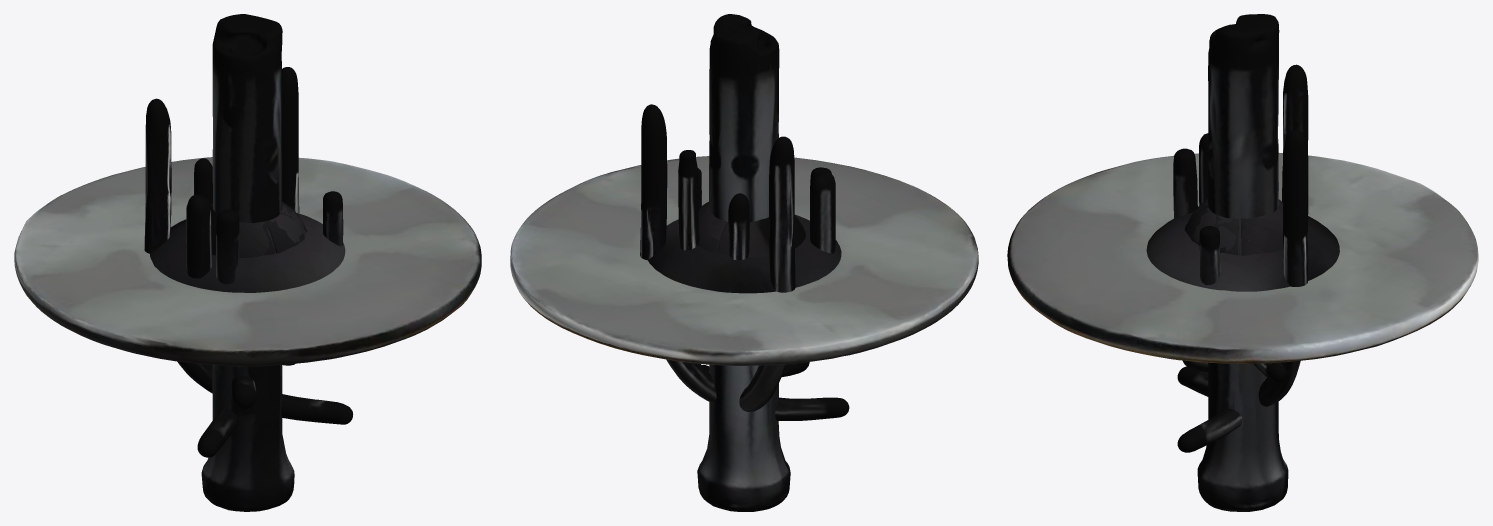
File: NMK.2005.0639_140184.glb
3 views of the same model, side by side, from view 1: azimuth 30°, elevation 25°; view 2: azimuth 150°, elevation 25°; view 3: azimuth 270°, elevation 25° (orthographic).
Parts seen in each view (by area): view 1: root.0, root.1, root.2, root.9, root.10, root.11, root.5, root.15, root.16, root.4, root.17, root.12; view 2: root.0, root.1, root.10, root.2, root.9, root.12, root.11, root.17, root.5, root.4; view 3: root.0, root.1, root.2, root.10, root.9, root.4, root.15, root.16, root.11, root.5.
Boxes of the visible parts, x1=… form: root.0: x1=14, y1=157, x2=481, y2=366; root.1: x1=201, y1=14, x2=294, y2=511; root.2: x1=150, y1=213, x2=345, y2=292; root.9: x1=144, y1=98, x2=353, y2=424; root.10: x1=197, y1=67, x2=299, y2=457; root.11: x1=186, y1=194, x2=211, y2=278; root.5: x1=210, y1=203, x2=306, y2=257; root.15: x1=216, y1=209, x2=239, y2=284; root.16: x1=323, y1=191, x2=343, y2=246; root.4: x1=262, y1=201, x2=304, y2=255; root.17: x1=194, y1=158, x2=295, y2=365; root.12: x1=231, y1=375, x2=256, y2=409; root.0: x1=510, y1=156, x2=978, y2=365; root.1: x1=697, y1=14, x2=790, y2=511; root.10: x1=640, y1=104, x2=849, y2=420; root.2: x1=648, y1=214, x2=841, y2=293; root.9: x1=702, y1=136, x2=795, y2=411; root.12: x1=678, y1=150, x2=809, y2=376; root.11: x1=810, y1=172, x2=835, y2=253; root.17: x1=728, y1=193, x2=749, y2=260; root.5: x1=711, y1=215, x2=805, y2=257; root.4: x1=698, y1=201, x2=728, y2=253; root.0: x1=1007, y1=153, x2=1478, y2=363; root.1: x1=1197, y1=14, x2=1288, y2=511; root.2: x1=1146, y1=211, x2=1339, y2=291; root.10: x1=1177, y1=129, x2=1308, y2=406; root.9: x1=1177, y1=64, x2=1308, y2=452; root.4: x1=1184, y1=204, x2=1282, y2=255; root.15: x1=1173, y1=148, x2=1197, y2=218; root.16: x1=1199, y1=226, x2=1220, y2=284; root.11: x1=1199, y1=133, x2=1286, y2=383; root.5: x1=1188, y1=198, x2=1282, y2=255.
Bounding box in the file's own units: 33719 × 37583 × 33731.
1 material, 1 textured.
